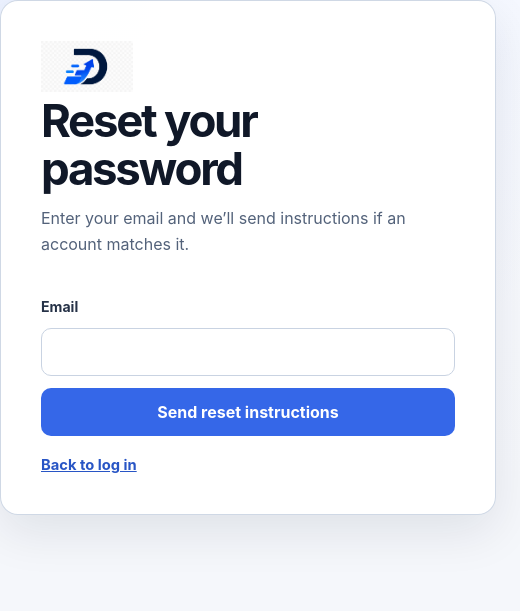
Test: ForgotPasswordForm › does not reveal provider errors or account existence
The image size is (520, 611).
In the field labelled "Email": {"x": 248, "y": 352} [41,328,455,376], type "user@example.com"
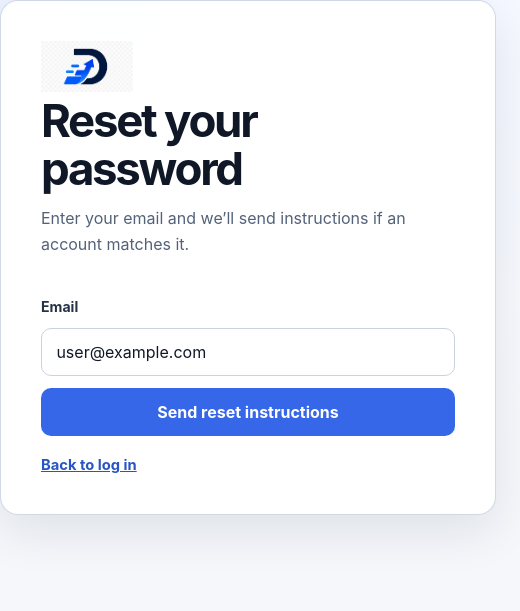
Click the button "Send reset instructions": {"x": 248, "y": 412} [41,388,455,436]
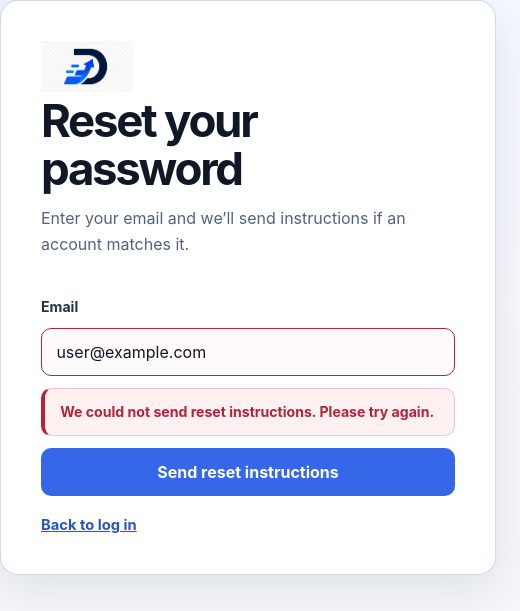
Result: the message shows "could not send reset instructions" at [60,403,434,420]
